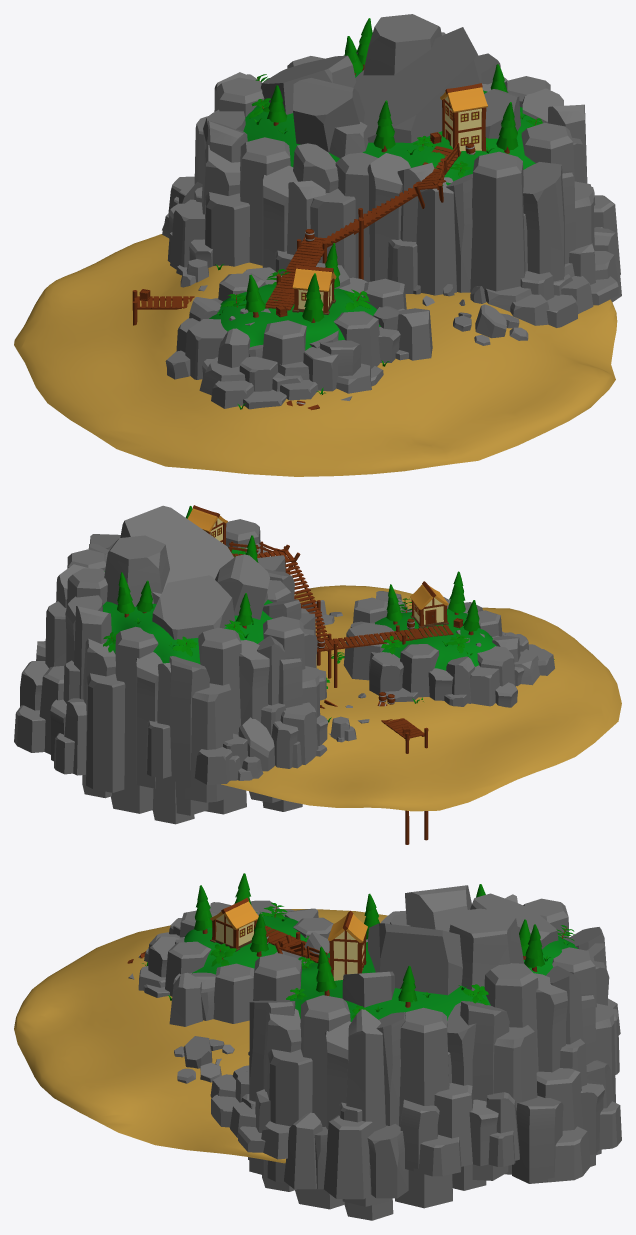
File: Zone2_Small_Outpost.fbx
3 views of the same model, one above another, from view 1: azimuth 30°, elevation 25°; view 2: azimuth 150°, elevation 25°; view 3: azimuth 270°, elevation 25° (orthographic). The views are drawn at different scales.
Parts seen in each view (by area): view 1: pSphere9, rock_medium_73, pasted__rock_cliff140, pasted__rock_cliff136, pasted__rock_cliff142, rock_cliff117, rock_cliff114, pasted__rock_cliff144, pasted__rock_cliff139, pSphere11, rock_cliff116, pSphere10 (+15 smaller); view 2: pSphere9, pasted__rock_cliff138, pasted__rock_cliff139, rock_medium_73, pasted__rock_cliff137, pasted__rock_cliff141, rock_cliff121, pasted__rock_cliff142, rock_cliff115, rock_cliff123, pSphere11, pSphere10 (+15 smaller); view 3: pSphere9, rock_medium_73, pasted__rock_cliff143, pasted__rock_cliff141, pasted__rock_cliff144, pasted__rock_cliff137, rock_cliff125, rock_cliff124, pasted__rock_cliff138, pasted__rock_cliff140, rock_cliff114, rock_cliff122 (+16 smaller).
Boxes of the visible parts, box(x1,y1,x2,y2) form: pSphere9: box(14, 234, 617, 476); rock_medium_73: box(261, 14, 520, 158); pasted__rock_cliff140: box(416, 151, 564, 295); pasted__rock_cliff136: box(293, 143, 434, 293); pasted__rock_cliff142: box(201, 137, 325, 273); rock_cliff117: box(199, 347, 371, 409); rock_cliff114: box(484, 243, 618, 327); pasted__rock_cliff144: box(521, 122, 595, 264); pasted__rock_cliff139: box(194, 72, 264, 202); pSphere11: box(243, 70, 540, 185); rock_cliff116: box(319, 306, 400, 386); pSphere10: box(209, 284, 380, 350); pSphere9: box(221, 585, 621, 811); pasted__rock_cliff138: box(82, 626, 194, 824); pasted__rock_cliff139: box(169, 627, 285, 815); rock_medium_73: box(104, 505, 269, 639); pasted__rock_cliff137: box(14, 661, 86, 775); pasted__rock_cliff141: box(45, 564, 111, 703); rock_cliff121: box(369, 644, 474, 706); pasted__rock_cliff142: box(262, 613, 326, 811); rock_cliff115: box(194, 717, 274, 784); rock_cliff123: box(271, 702, 327, 768); pSphere11: box(102, 549, 272, 663); pSphere10: box(375, 609, 496, 670); pSphere9: box(14, 909, 387, 1163); rock_medium_73: box(342, 885, 558, 1007); pasted__rock_cliff143: box(342, 1002, 486, 1208); pasted__rock_cliff141: box(460, 963, 586, 1180); pasted__rock_cliff144: box(262, 995, 393, 1220); pasted__rock_cliff137: box(512, 1060, 621, 1183); rock_cliff125: box(284, 1112, 408, 1199); rock_cliff124: box(400, 1083, 519, 1176); pasted__rock_cliff138: box(552, 943, 619, 1166); pasted__rock_cliff140: box(248, 951, 306, 1175); rock_cliff114: box(210, 1065, 290, 1159); rock_cliff122: box(169, 963, 254, 1026).
Bounding box in the file's own units: 15354 × 7823 × 14509.
